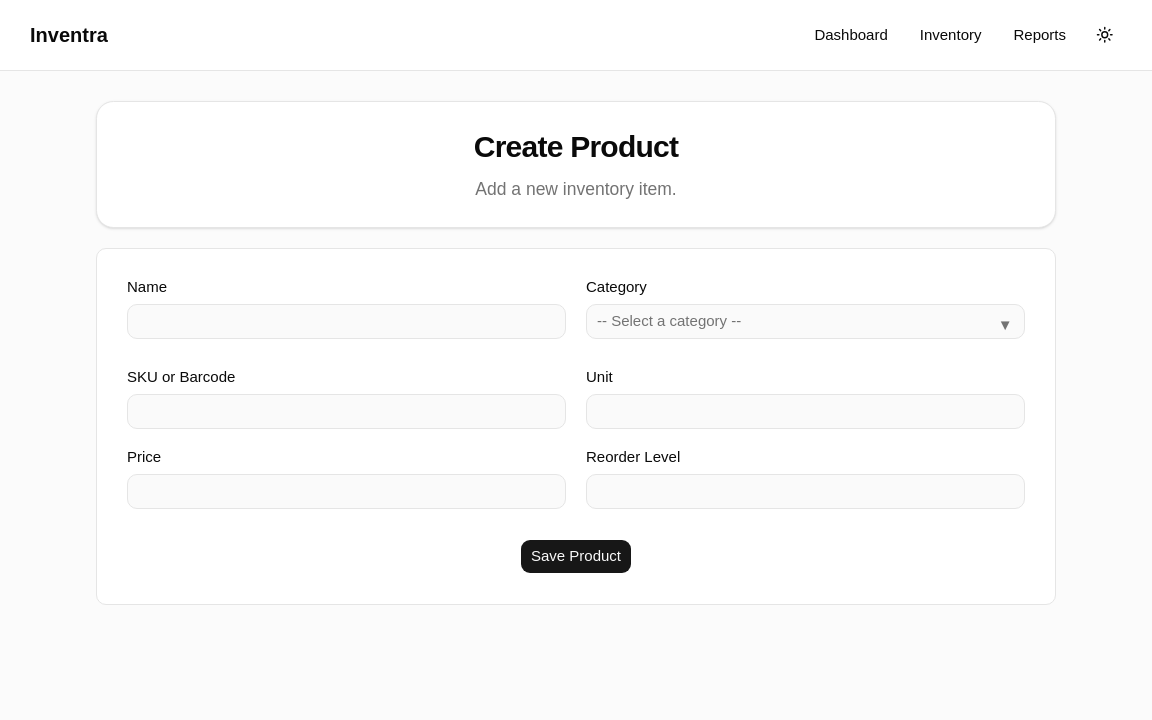
Test case: Product Create Page Tests › requires positive numeric values to submit
The width and height of the screenshot is (1152, 720).
Expected: the field labelled "Reorder Level" is shown, [586,474,1025,509]
Type "-1" into the field labelled "Price". click: [346, 492]
box: [127,474,566,509]
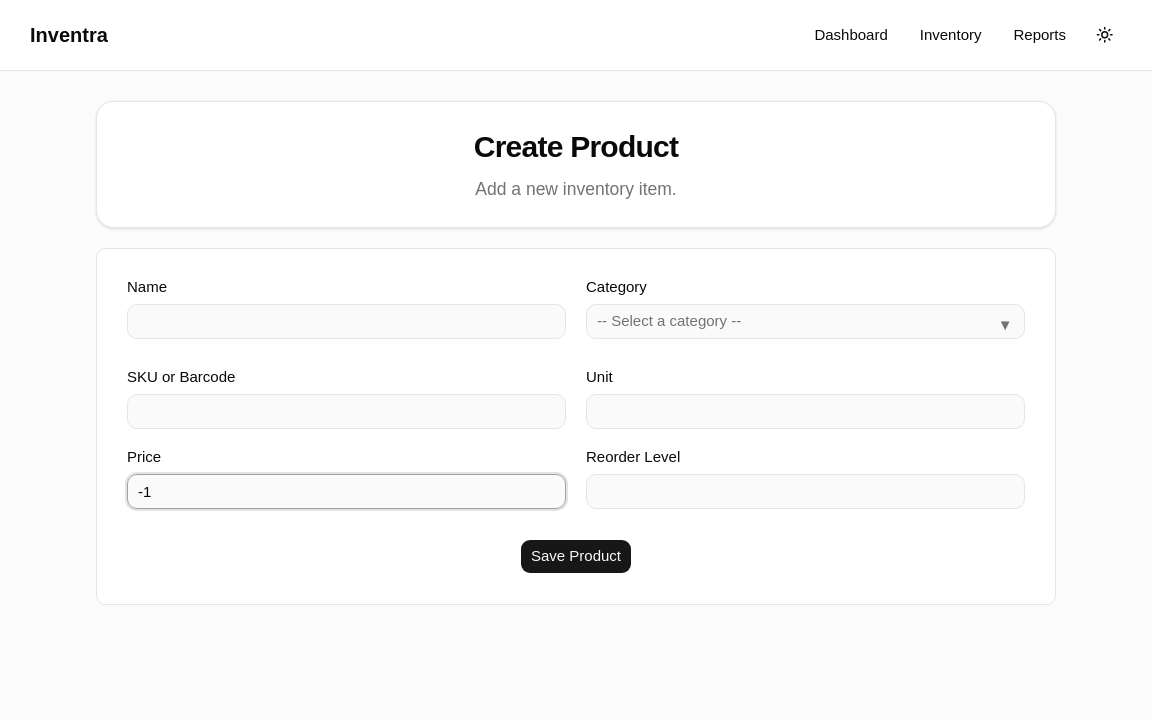
Type "-1" into the field labelled "Reorder Level". click: [806, 492]
box: [586,474,1025,509]
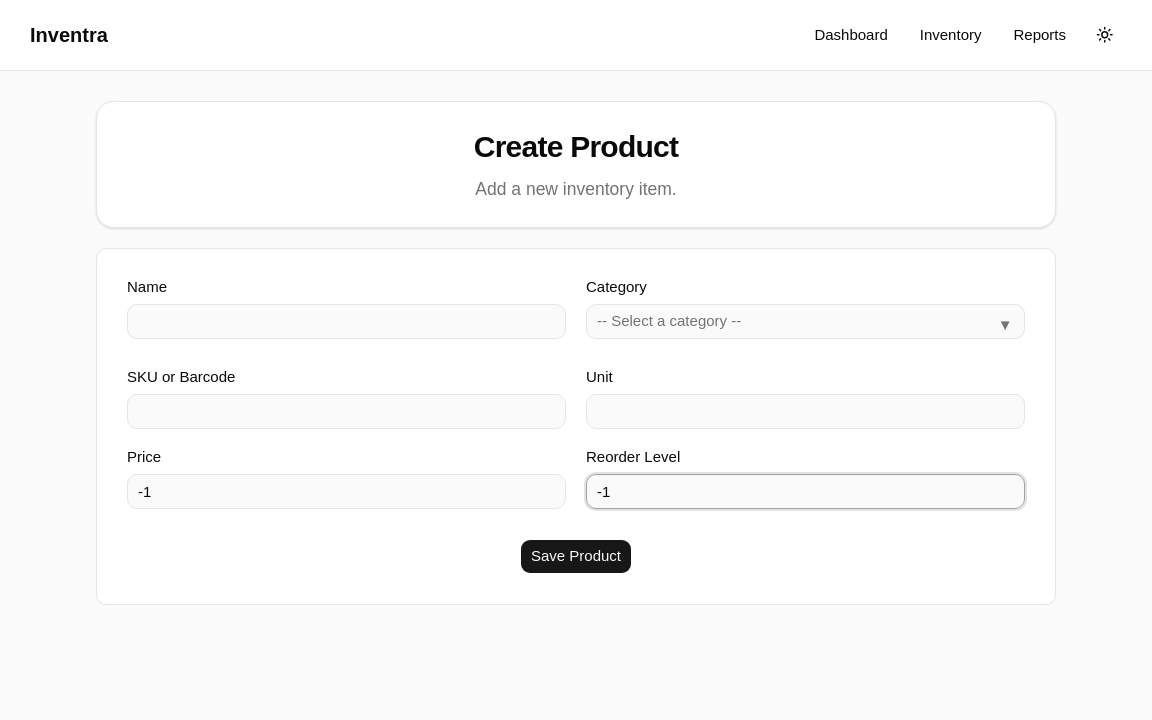
Click the button "Save Product". click: [576, 556]
box: [520,539,632,574]
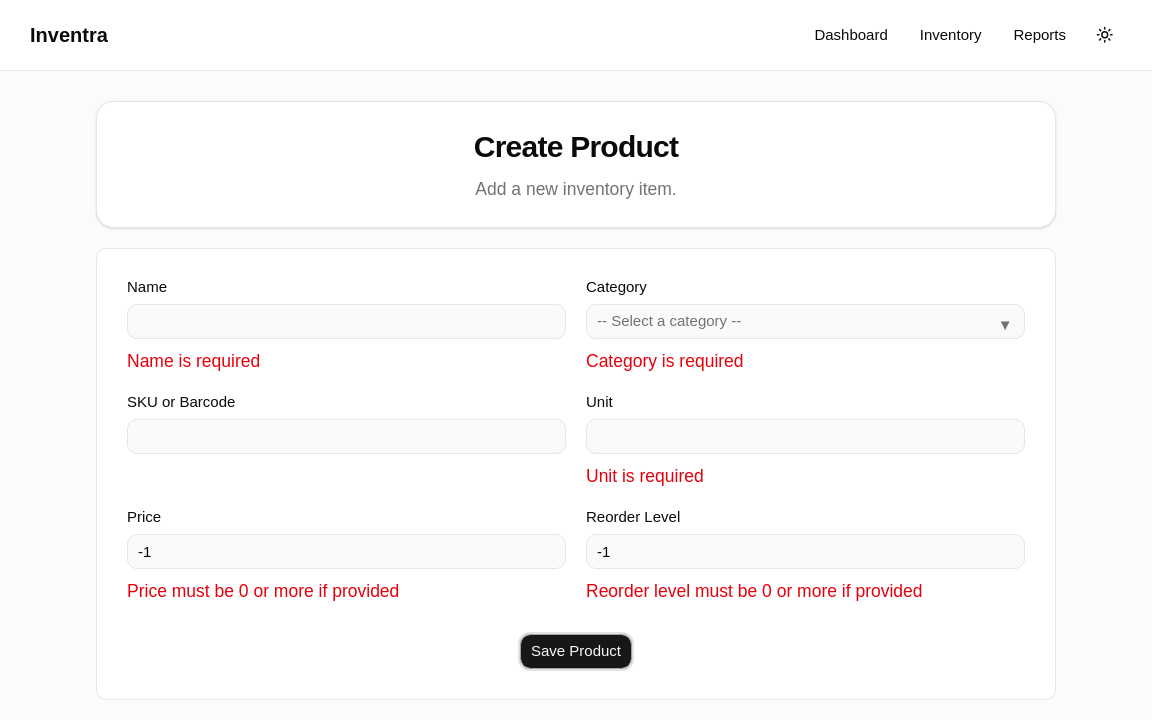
Expected: the button "Save Product" is shown, [520,634,632,669]
Now the text "Price must be 0 or more if provided" is shown, box [127,581,399,601]
Now the text "Reorder level must be 0 or more if provided" is shown, box [586,581,922,601]
